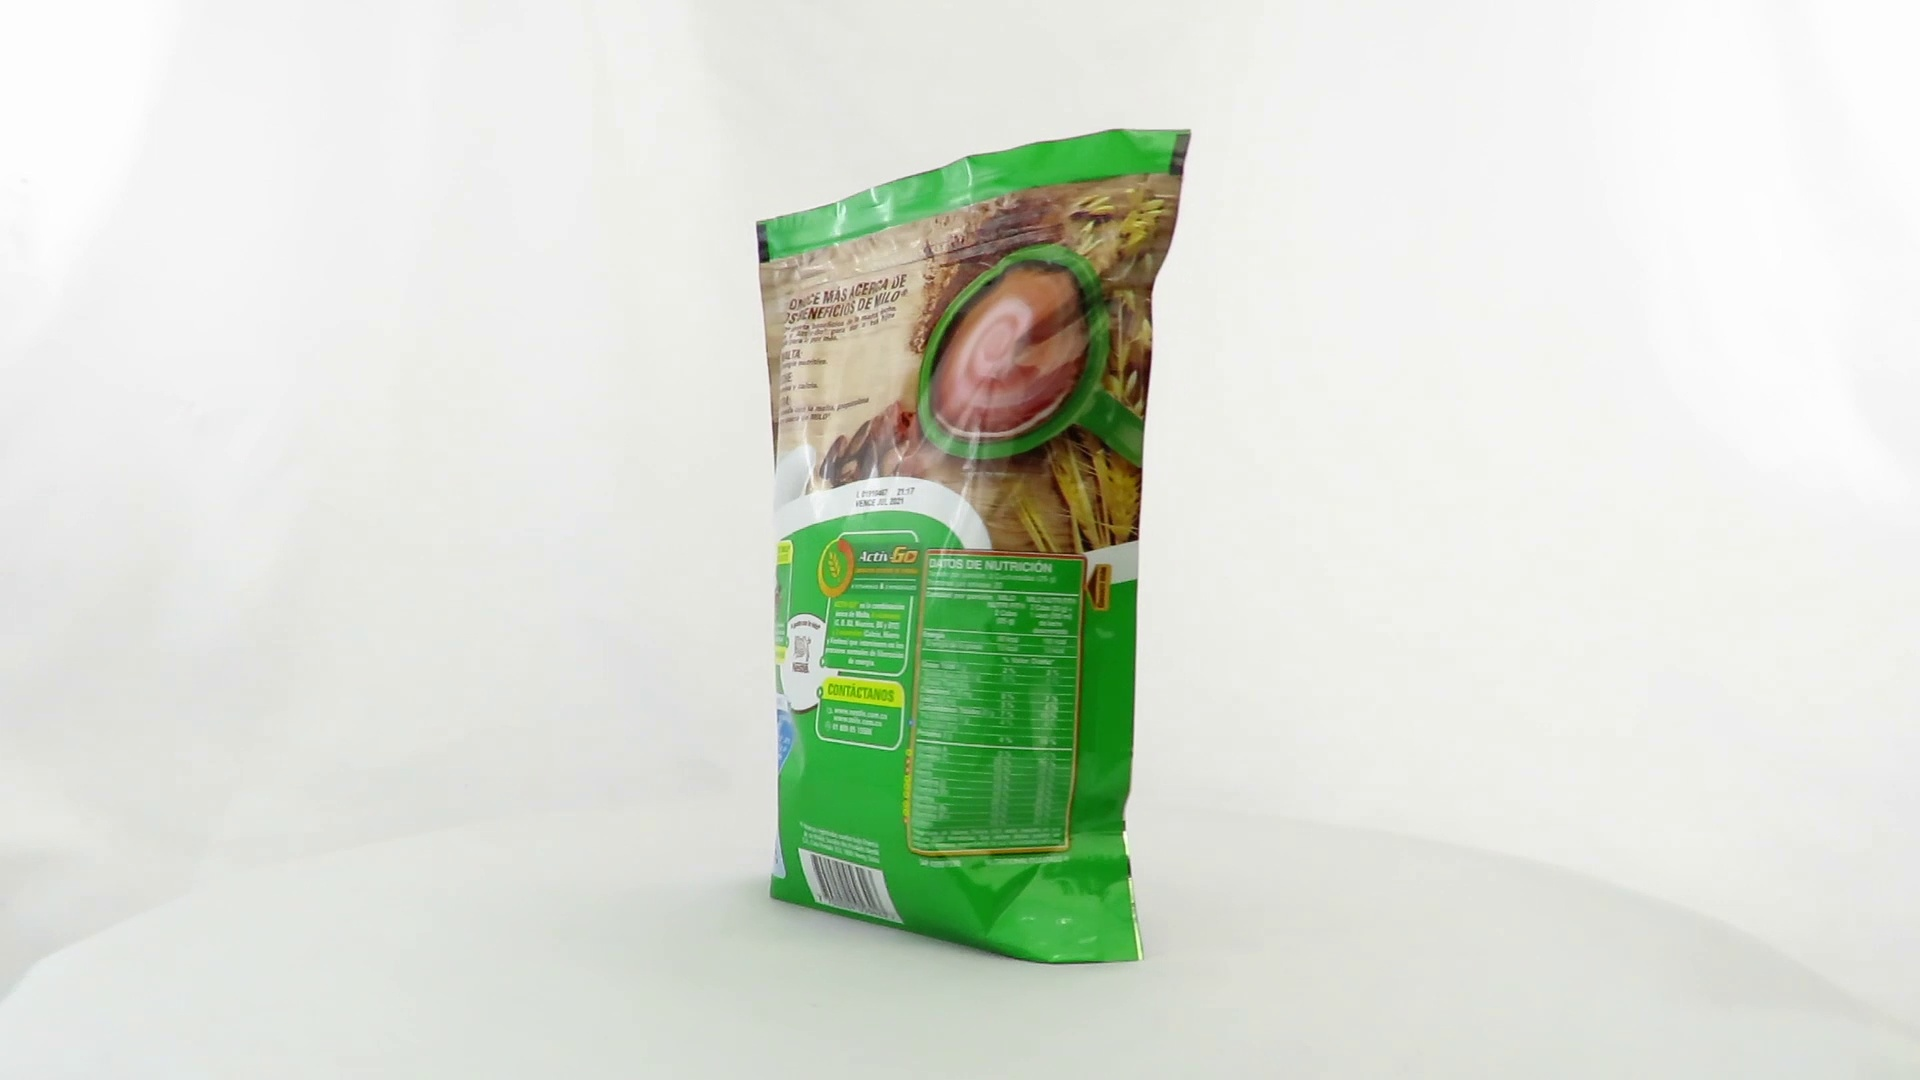COL0170205DYP50000: (752, 123, 1197, 971)
